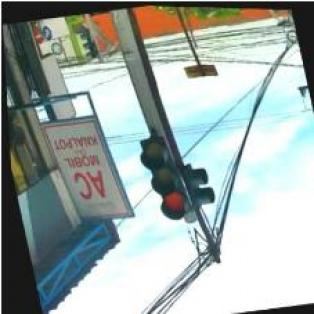Semaforo Rojo: (136, 134, 192, 223)
